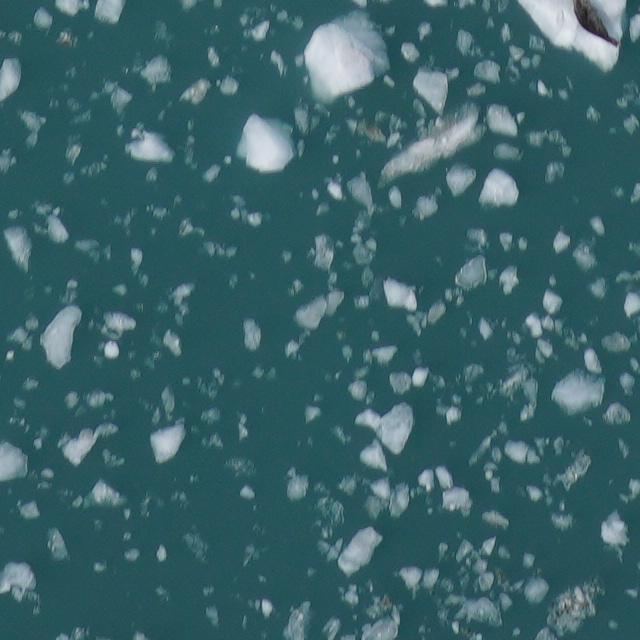seal: (572, 0, 619, 47)
